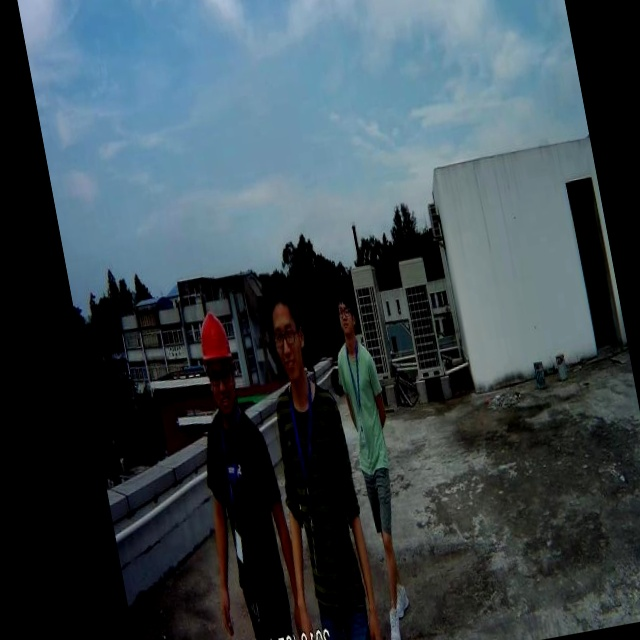Con_Casco: (195, 310, 240, 414)
Sin_Casco_Mascarrilla: (265, 277, 311, 374)
Sin_Chaleco: (270, 377, 374, 605), (197, 406, 298, 614), (333, 339, 395, 475)
